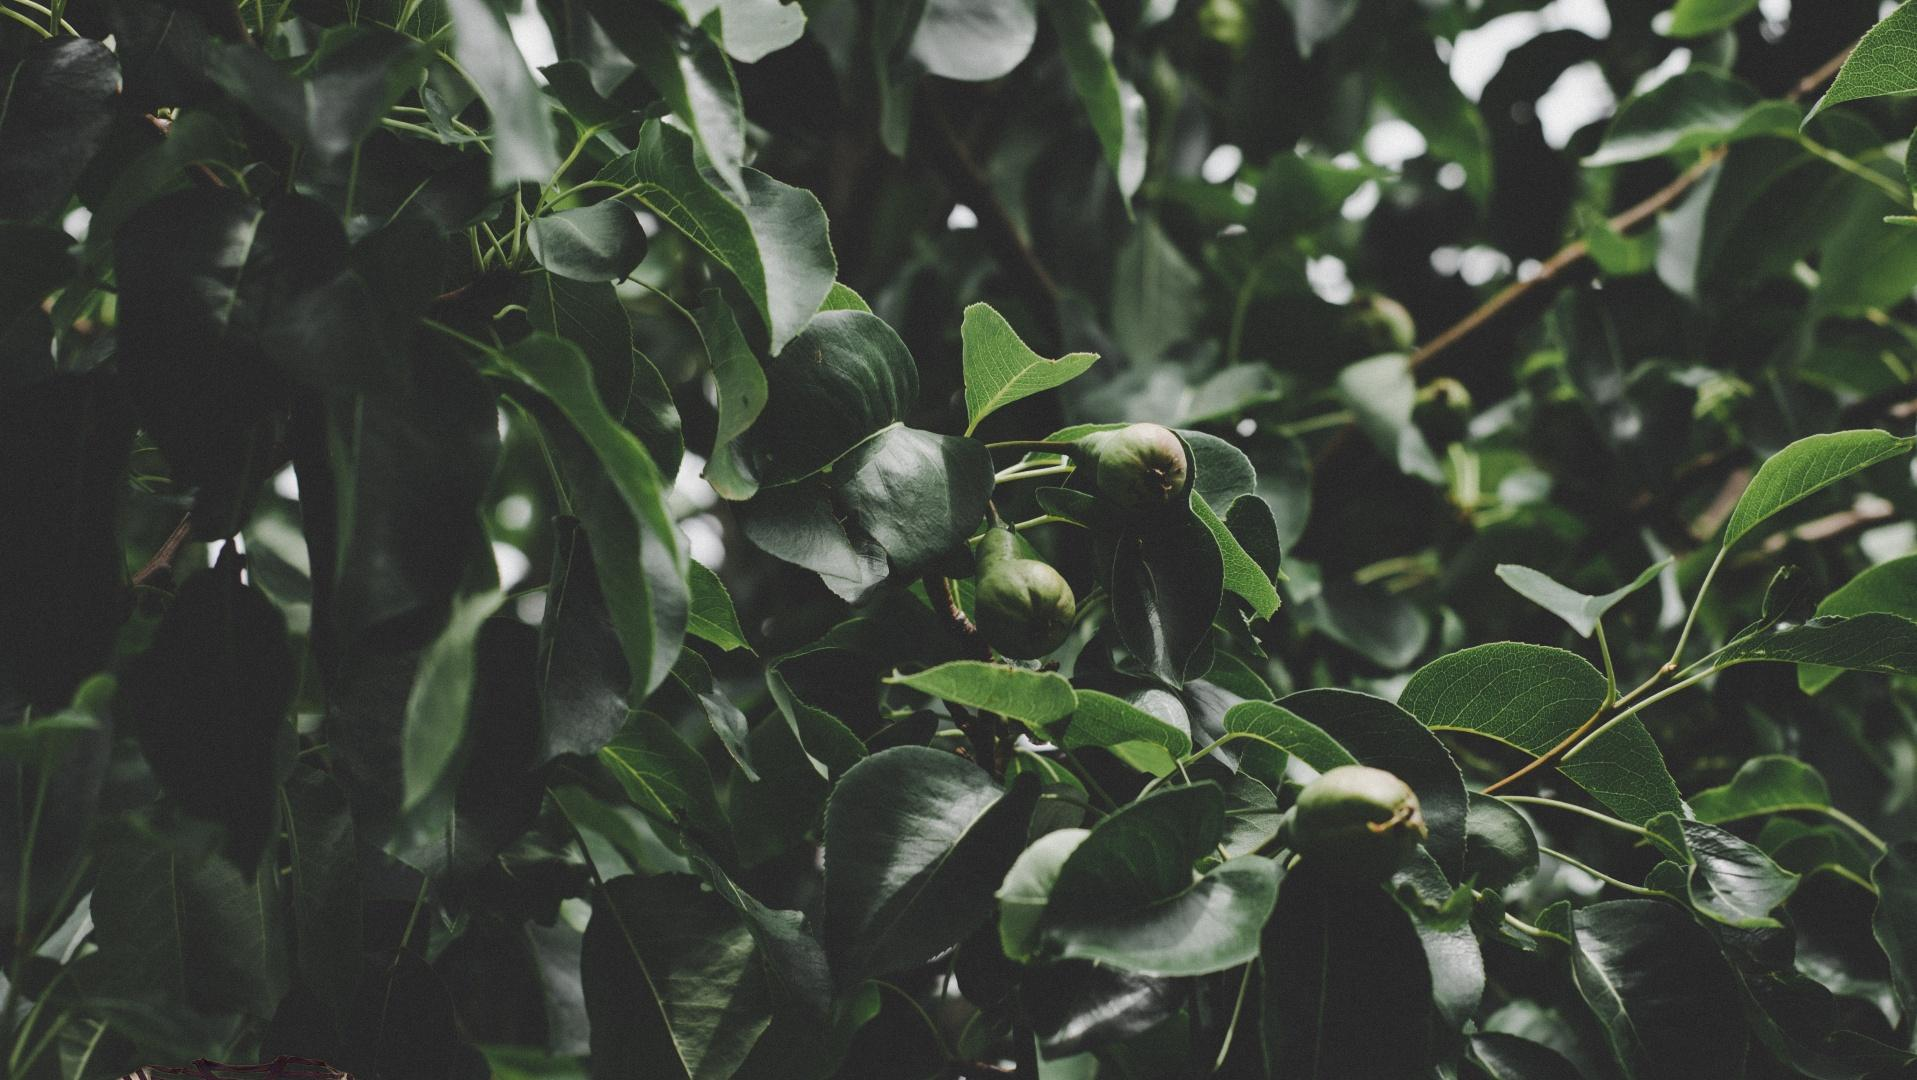clothes: (51, 1013, 448, 1080)
